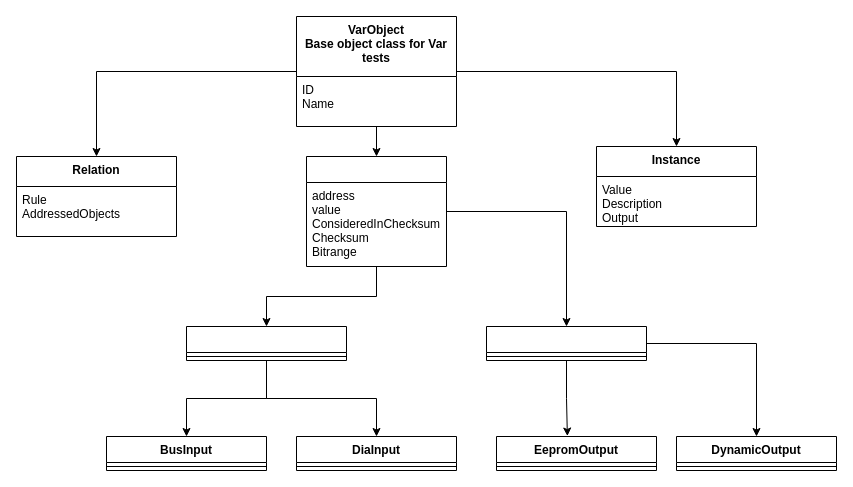
Image size: 853x487. Some labels were removed from this diagram. The shapes that lost their labels are listed below. From the top down, each one's box as (x1, y1, x2, y2) in pixels, then its label:
(306, 156, 446, 266): AddressedObject
(186, 326, 346, 360): Input
(486, 326, 646, 360): Output
